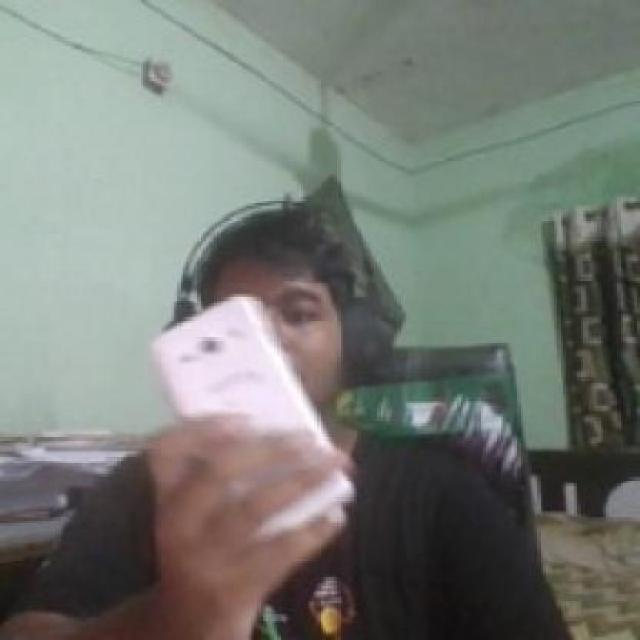Phone: (149, 291, 357, 540)
